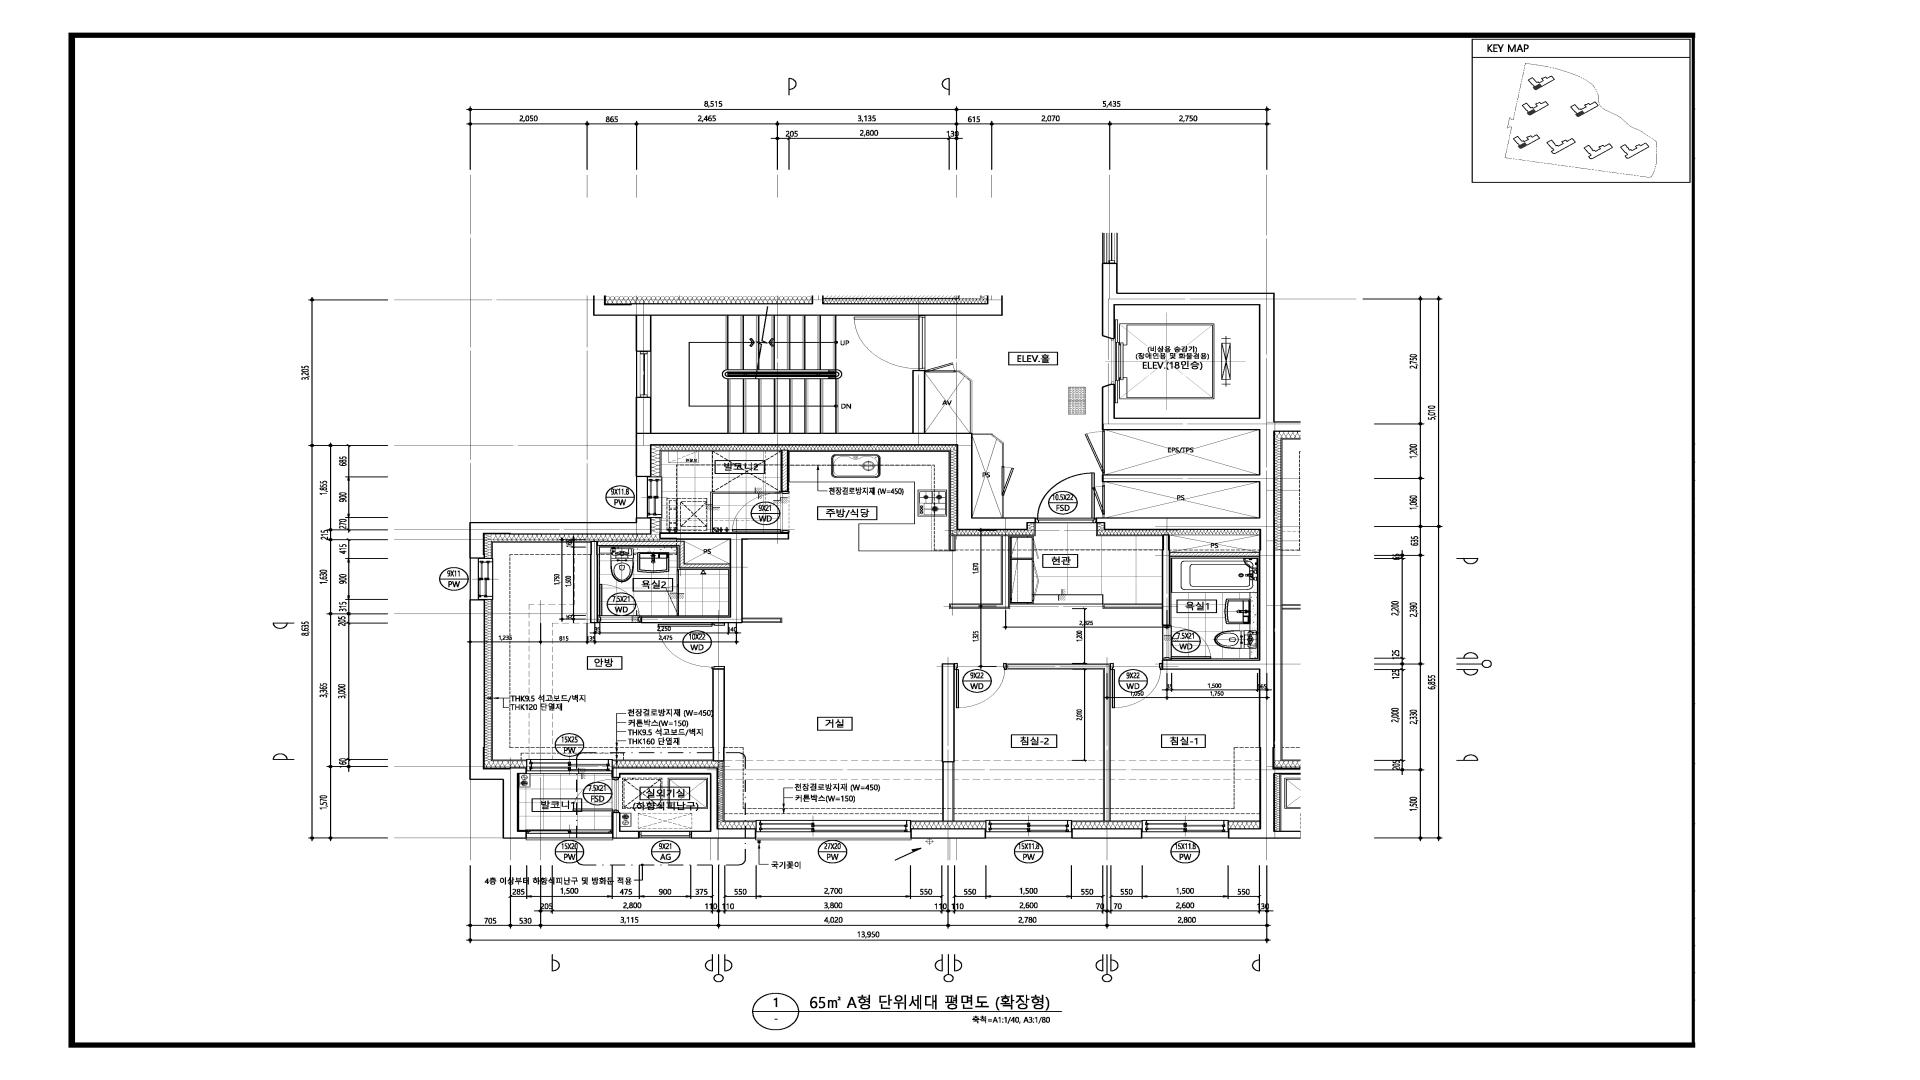door: (853, 316, 926, 371), (657, 624, 725, 670), (1036, 472, 1095, 524), (732, 491, 790, 533), (955, 663, 1007, 709), (1110, 663, 1163, 709), (597, 584, 641, 624), (1162, 626, 1212, 661), (572, 778, 618, 812), (1084, 431, 1102, 472), (666, 587, 679, 616), (1004, 467, 1014, 496), (926, 363, 955, 371), (1095, 485, 1102, 514)
wall: (1096, 262, 1275, 839), (636, 371, 1036, 530), (593, 303, 1002, 352), (589, 533, 789, 624), (1006, 665, 1110, 820), (1101, 534, 1259, 625), (469, 600, 526, 839), (612, 767, 756, 839), (469, 517, 651, 558), (949, 537, 1010, 609), (926, 371, 972, 433), (972, 434, 1004, 518), (942, 665, 955, 822), (712, 669, 724, 762), (911, 828, 985, 839), (1072, 828, 1142, 839), (612, 812, 638, 839), (781, 450, 789, 492), (1102, 430, 1105, 475), (1102, 483, 1105, 517), (676, 570, 679, 587)
window: (756, 820, 911, 840), (985, 820, 1072, 839), (1142, 820, 1229, 839), (526, 760, 612, 774), (636, 477, 662, 518), (469, 558, 493, 600), (526, 829, 612, 840), (636, 352, 651, 398), (638, 831, 692, 839)
